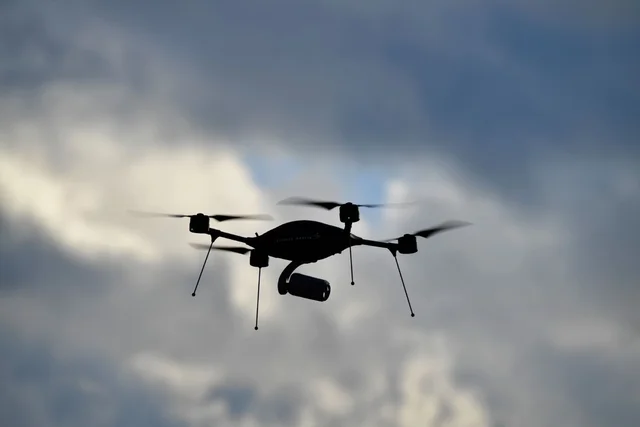drone: (117, 191, 487, 335)
